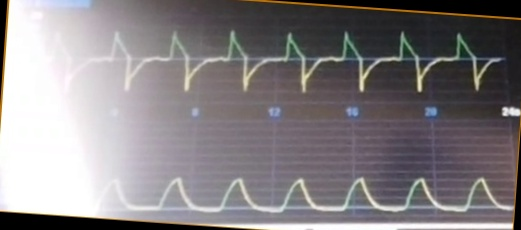Normal Flow: (45, 23, 503, 101)
Normal Volume: (84, 152, 513, 215)
